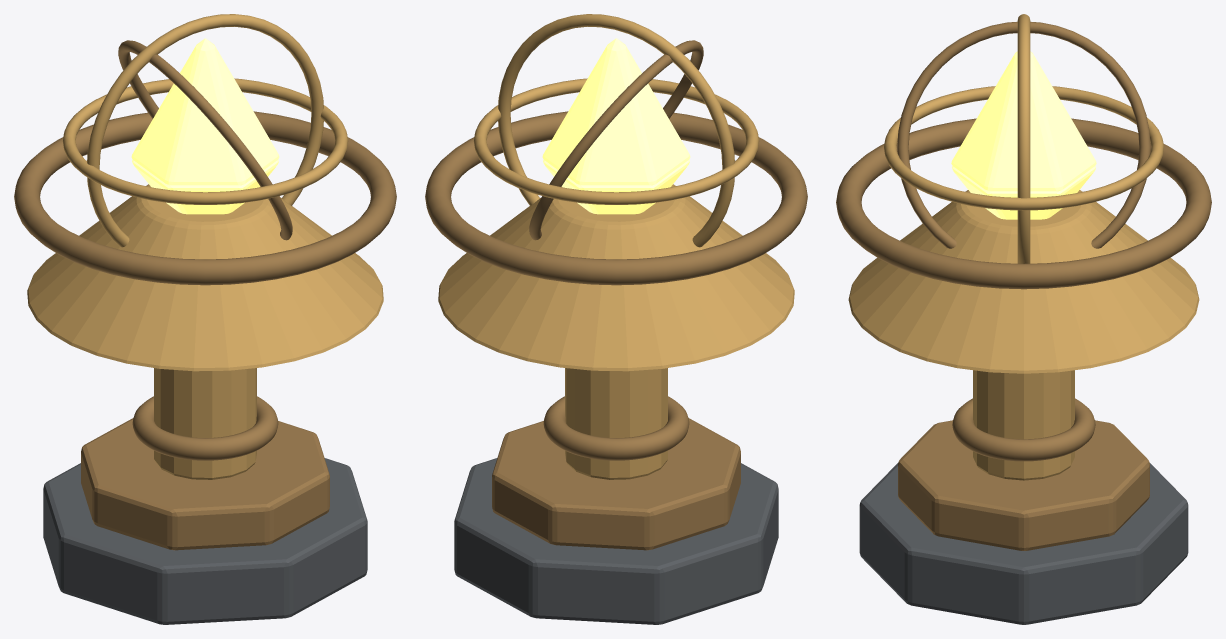
Rendered from emitter.glb.
3 views of the same model, side by side, from view 1: azimuth 30°, elevation 25°; view 2: azimuth 150°, elevation 25°; view 3: azimuth 270°, elevation 25° (orthographic).
Parts seen in each view (by area): view 1: EmitterBase, EmitterCrystal; view 2: EmitterBase, EmitterCrystal; view 3: EmitterBase, EmitterCrystal.
Part boxes in pixels (bbox=[...]): EmitterBase: bbox=[14, 14, 396, 624]; EmitterCrystal: bbox=[131, 38, 279, 214]; EmitterBase: bbox=[425, 14, 807, 624]; EmitterCrystal: bbox=[542, 38, 690, 214]; EmitterBase: bbox=[836, 14, 1211, 624]; EmitterCrystal: bbox=[951, 51, 1096, 219].
Size of the model in its own units: 1.18 by 1.84 by 1.18.
